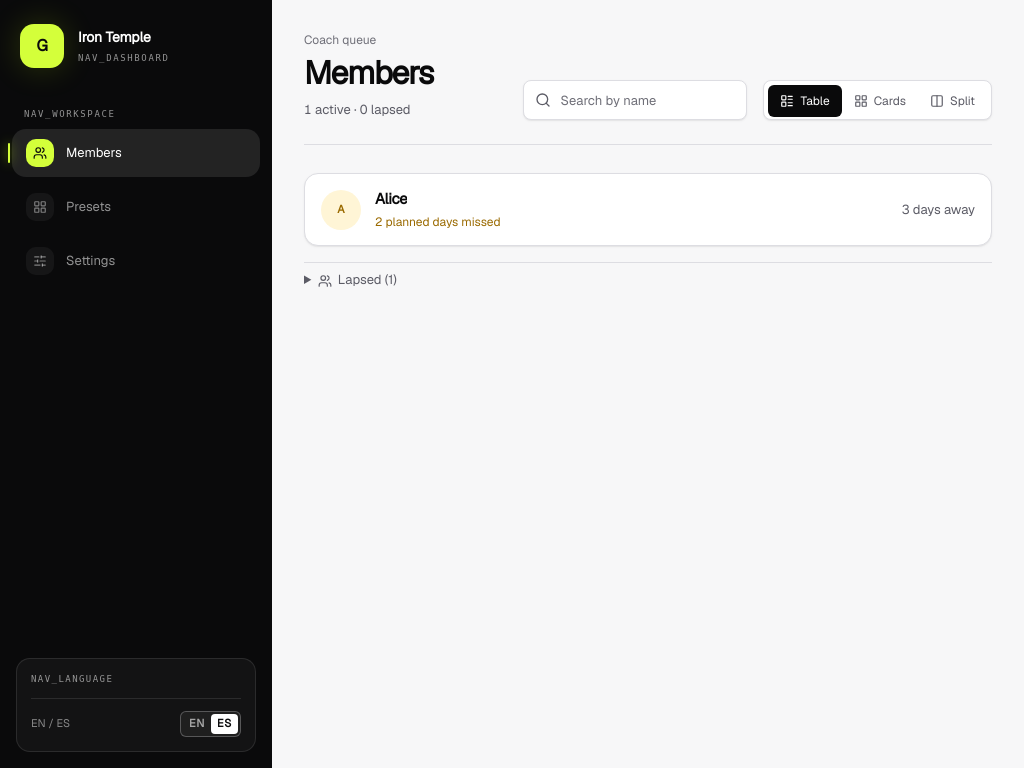
Test case: RosterShell › switches to split view
This screenshot has width=1024, height=768.
What coordinates should you click on to do the following:
click the button labelled "Split"
I would click on:
 (952, 101)
Its box is left=918, top=85, right=987, bottom=117.
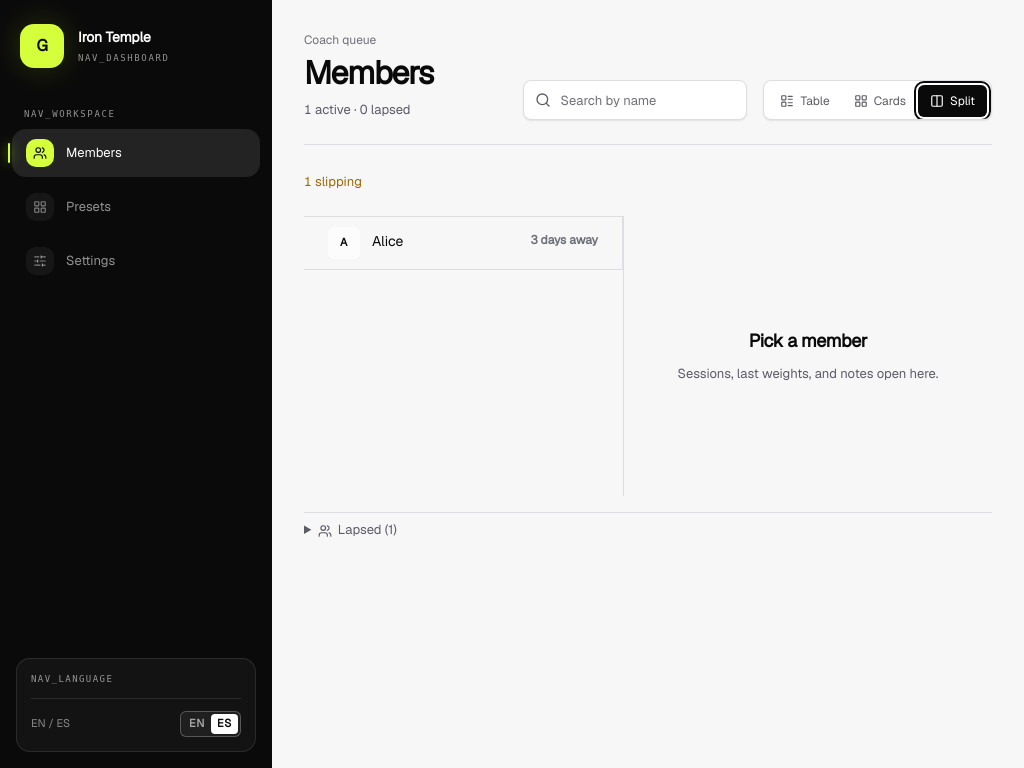
Expected: the heading "Pick a member" is shown, left=749, top=330, right=867, bottom=352
